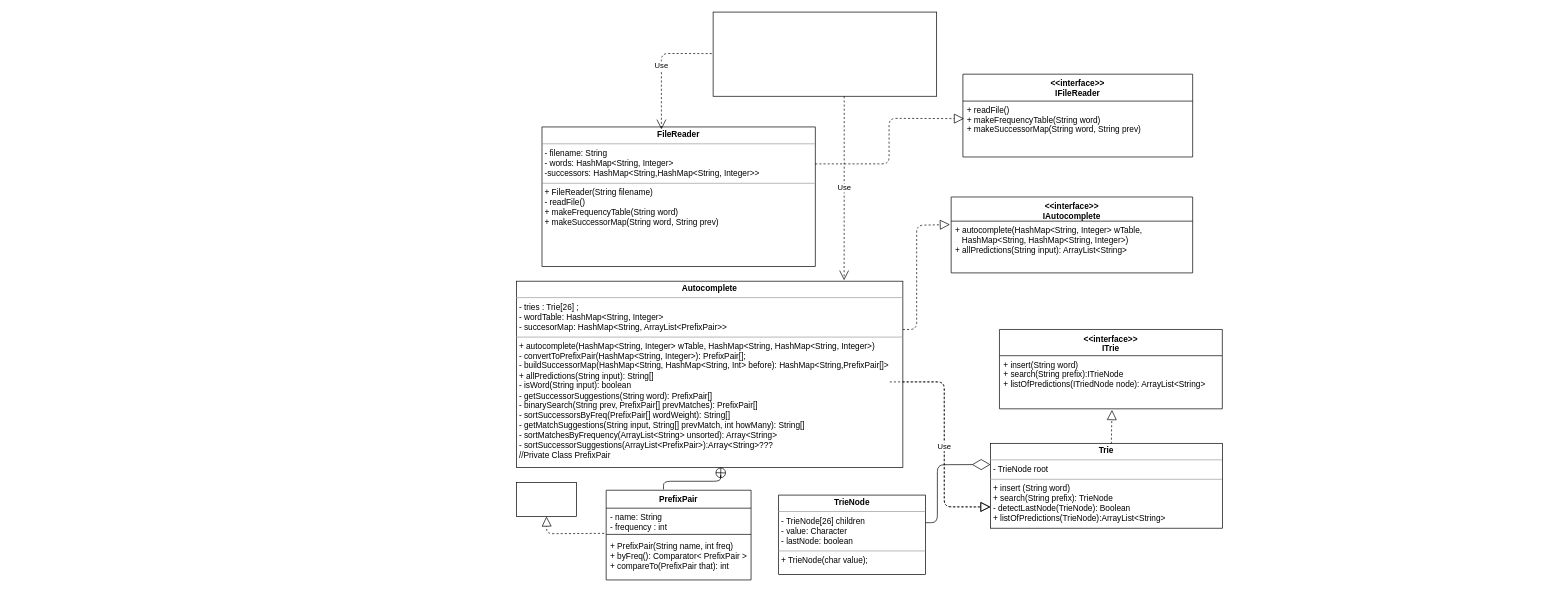
This 1560x594 diagram has some shape labels left out. The centre of each missing label's shape, as x and y in pixels:
User Interface - fReader: FileReader - predictor: Autocomplete + main(): point (824, 53)
«interface» Comparable: point (546, 499)
